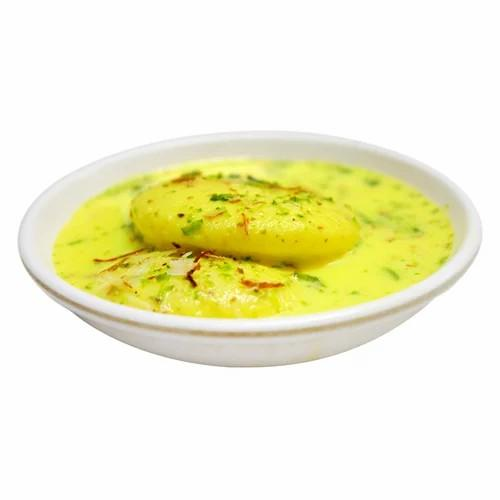RasMalai: (52, 158, 452, 317)
